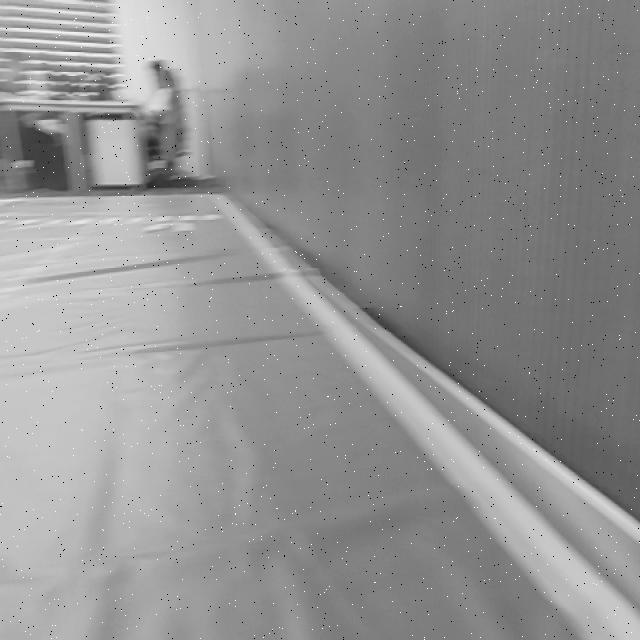left_lane: (0, 226, 93, 304)
right_lane: (229, 214, 624, 640)
